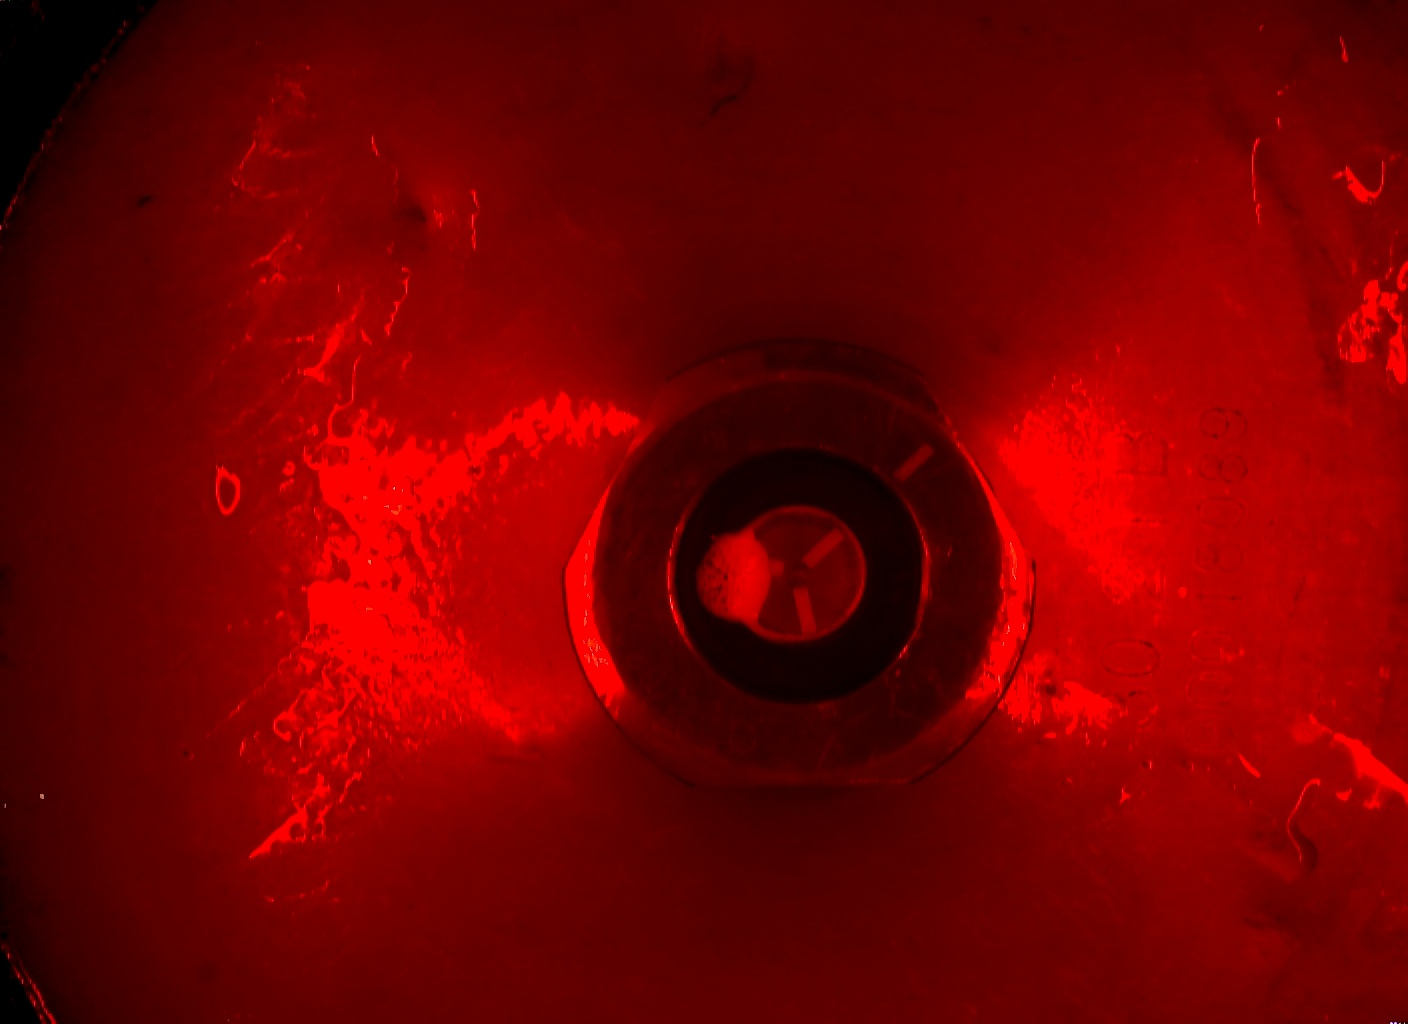pena: (680, 523, 773, 632)
